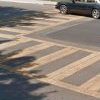crosswalk: (0, 36, 100, 94), (0, 15, 78, 36)
